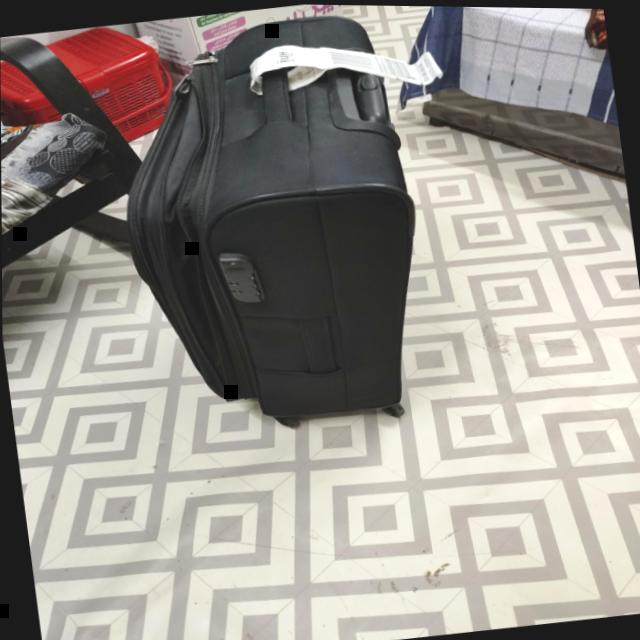luggage: (96, 1, 446, 444)
